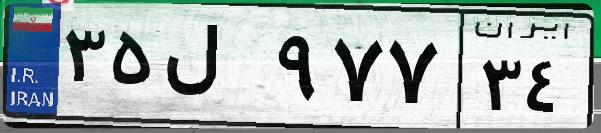3: (57, 26, 110, 100), (475, 38, 525, 113)
4: (525, 38, 570, 115)
5: (110, 28, 158, 98)
7: (385, 28, 445, 110), (330, 28, 385, 110)
9: (270, 28, 330, 110)
ل: (158, 20, 270, 120)
